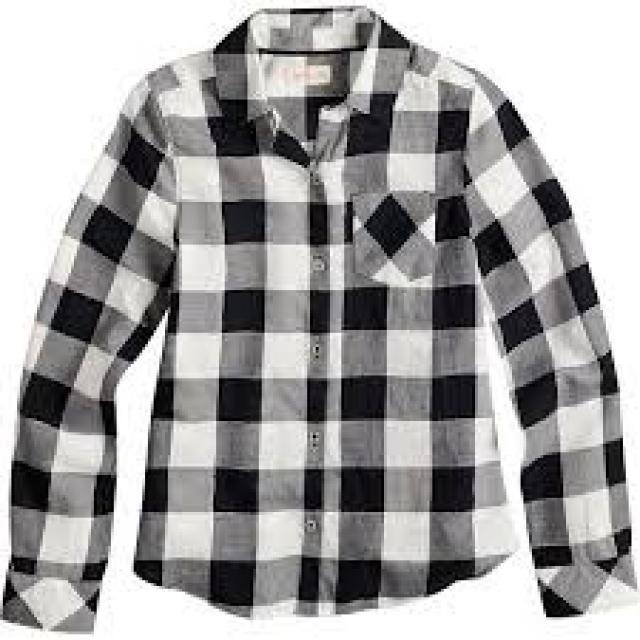plaid: (10, 14, 625, 622)
